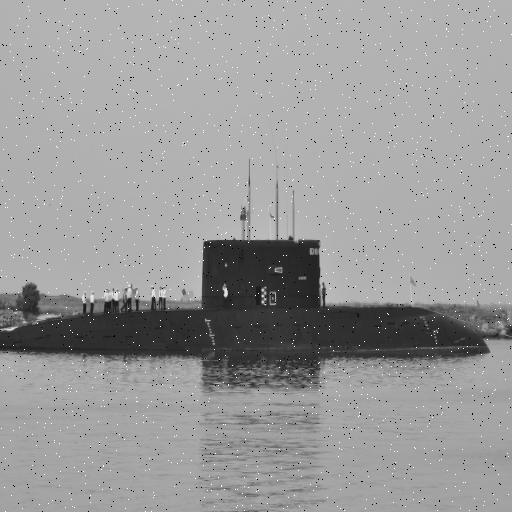submarine: (1, 232, 492, 355)
